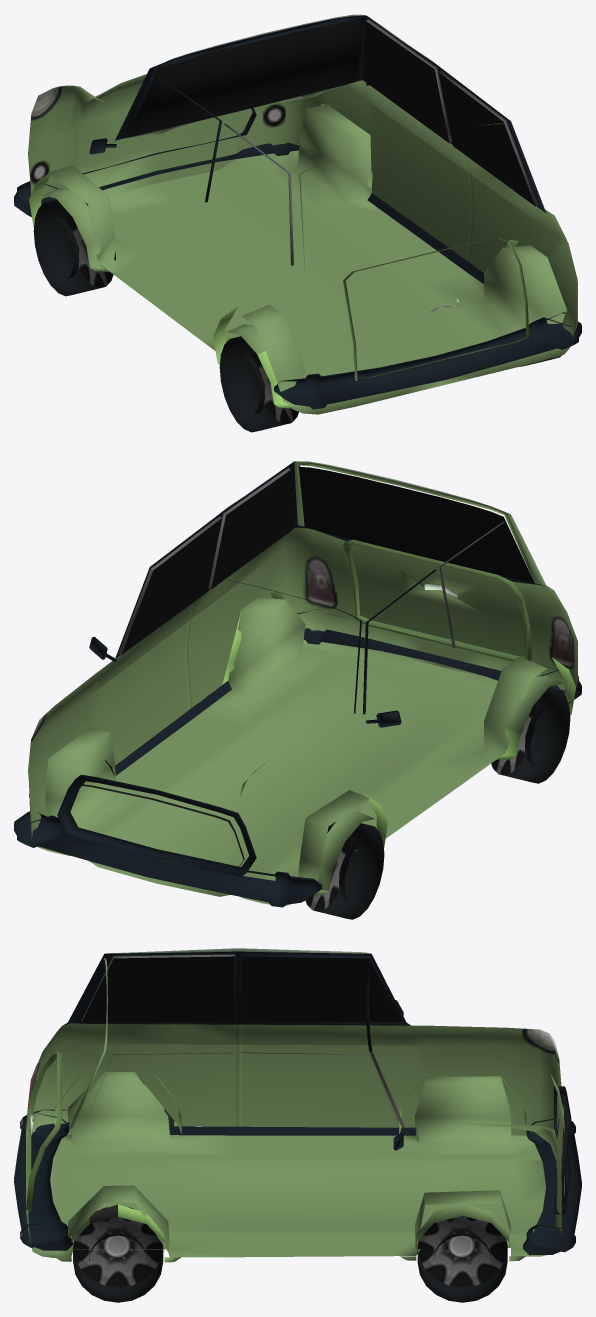
3 renders of one model, top to bottom at view 1: azimuth 30°, elevation 25°; view 2: azimuth 150°, elevation 25°; view 3: azimuth 270°, elevation 25°, orthographic. The views are drawn at different scales.
Parts seen in each view (by area): view 1: CityCar_01_005, tyre3, tyre1; view 2: CityCar_01_005, tyre3, tyre1; view 3: CityCar_01_005, tyre3, tyre2.
Boxes of the visible parts, <box> form: CityCar_01_005: <box>14,14,581,414</box>; tyre3: <box>33,199,115,296</box>; tyre1: <box>219,336,298,432</box>; CityCar_01_005: <box>14,461,581,907</box>; tyre3: <box>305,821,384,919</box>; tyre1: <box>491,687,570,783</box>; CityCar_01_005: <box>14,948,581,1262</box>; tyre3: <box>417,1216,507,1302</box>; tyre2: <box>73,1207,163,1302</box>.
Size of the model in its own units: 0.6296 by 0.5165 by 1.07.
3 materials, 3 textured.
